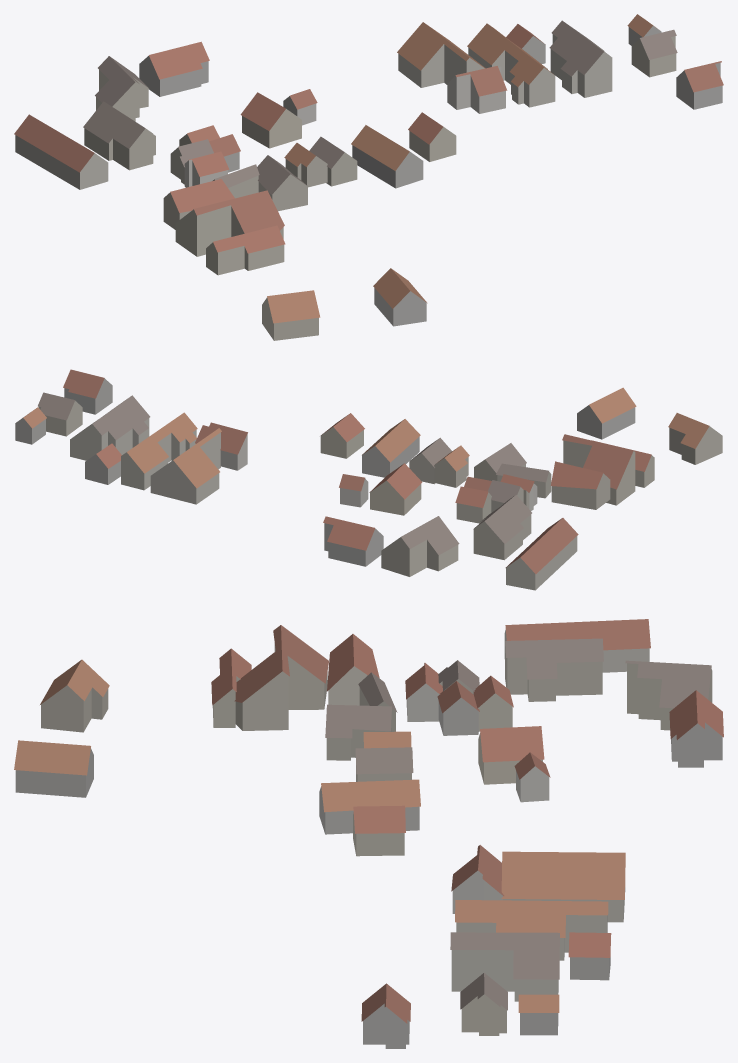
3 renders of one model, top to bottom at view 1: azimuth 30°, elevation 25°; view 2: azimuth 150°, elevation 25°; view 3: azimuth 270°, elevation 25°, orthographic. The views are drawn at different scales.
Parts seen in each view (by area): view 1: buildings; view 2: buildings; view 3: buildings.
Boxes of the visible parts, bbox=[...] form: buildings: bbox=[14, 14, 723, 340]; buildings: bbox=[15, 369, 722, 590]; buildings: bbox=[14, 619, 723, 1048].
Size of the model in its own units: 206 by 25.12 by 163.
